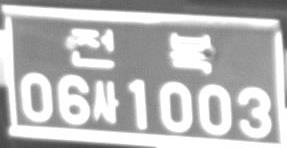0: (157, 80, 194, 133), (197, 83, 233, 136), (19, 71, 54, 123)
1: (125, 78, 153, 130)
3: (237, 85, 272, 139)
6: (56, 73, 91, 124)
사: (91, 79, 119, 124)
전북_D: (69, 27, 213, 74)
